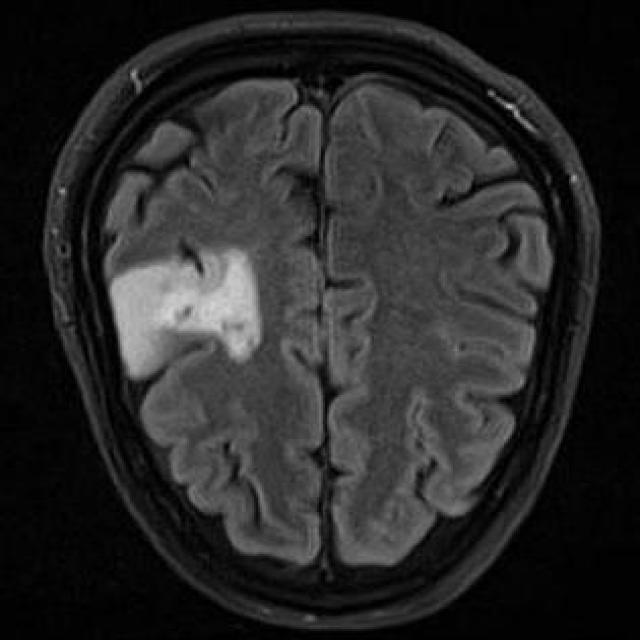Tumor-Cell: (116, 259, 291, 377)
